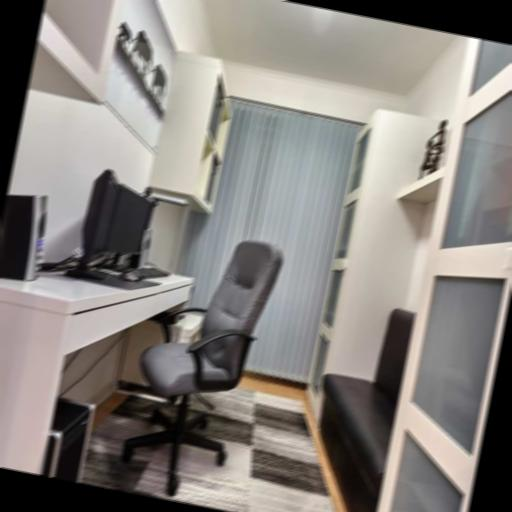Door: (370, 37, 512, 512)
chair: (115, 221, 287, 508)
desk: (0, 239, 195, 496)
sofa: (294, 295, 416, 512)
wall: (0, 0, 232, 427), (366, 28, 470, 312), (208, 58, 407, 130)
